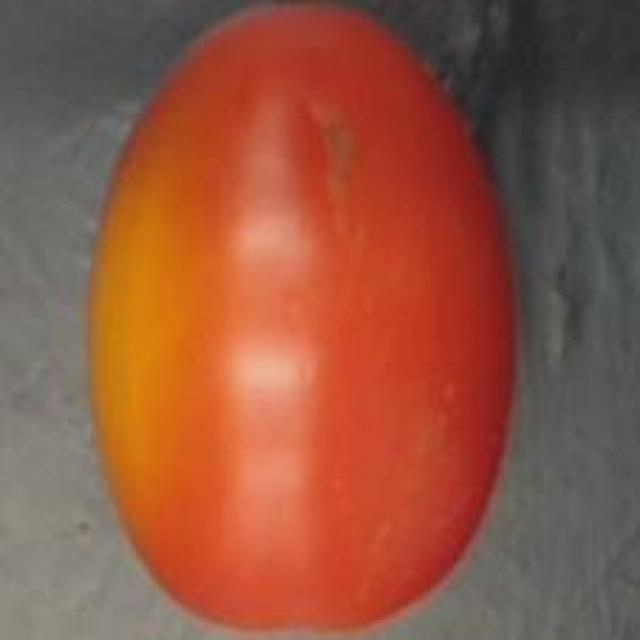overripe tomato: (76, 5, 540, 640)
